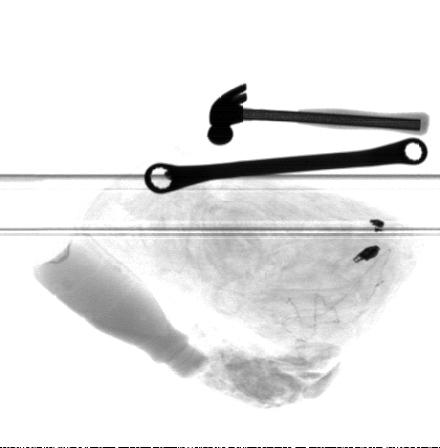Hammer: (208, 82, 428, 146)
Wrench: (144, 136, 429, 192)
